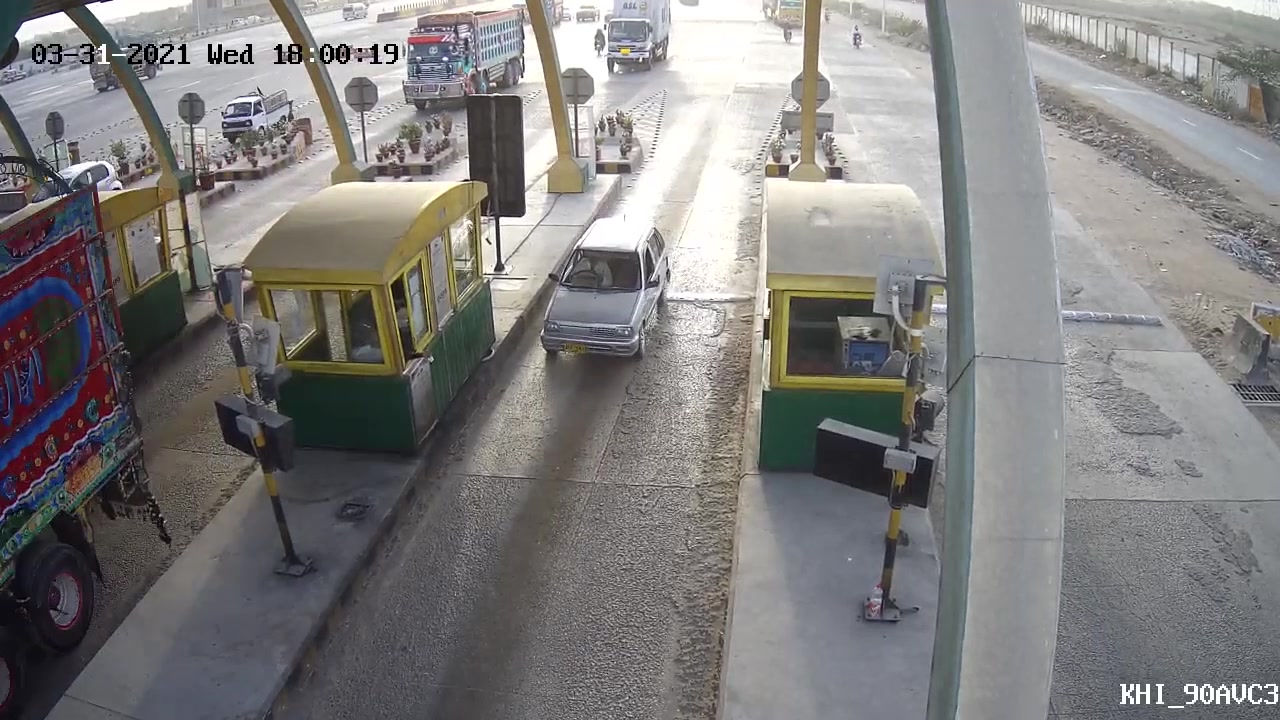F1: (534, 210, 672, 362)
